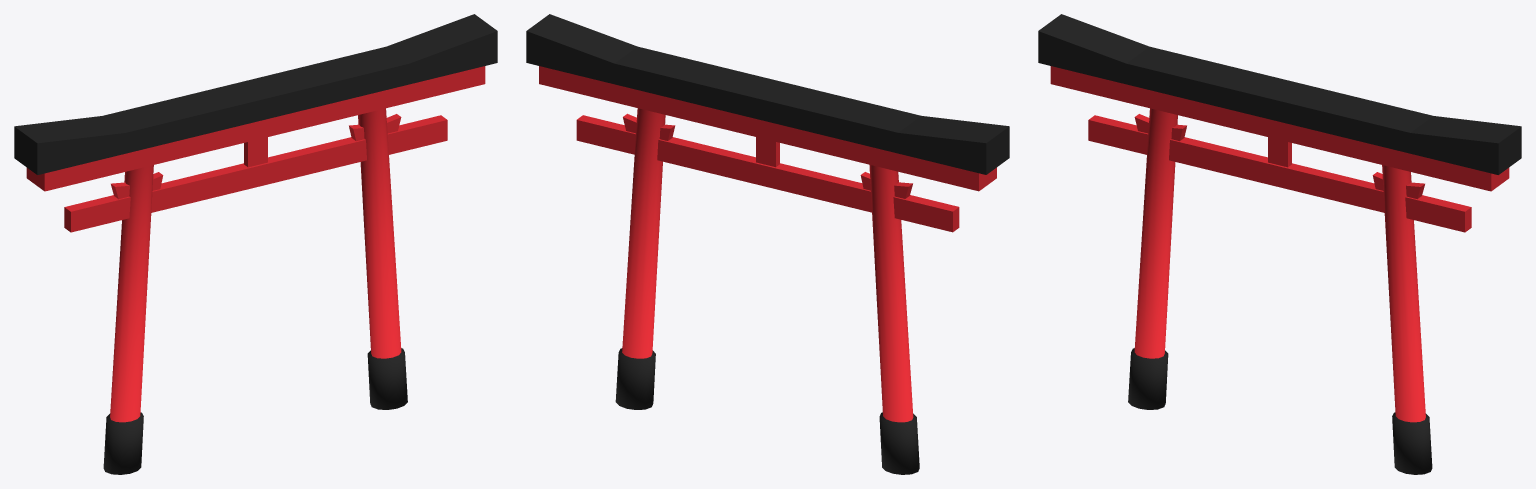
The model's file is torii.gltf.
The picture shows the model from 3 angles, left to right: view 1: azimuth 30°, elevation 25°; view 2: azimuth 150°, elevation 25°; view 3: azimuth 330°, elevation 25°; orthographic projection.
Visible parts, largest first — view 1: Cube.002; view 2: Cube.002; view 3: Cube.002.
Boxes of the visible parts, <box> form: Cube.002: <box>14,14,497,474</box>; Cube.002: <box>526,14,1009,474</box>; Cube.002: <box>1038,14,1521,474</box>.
Size of the model in its own units: 11.9 by 8.82 by 1.04.
